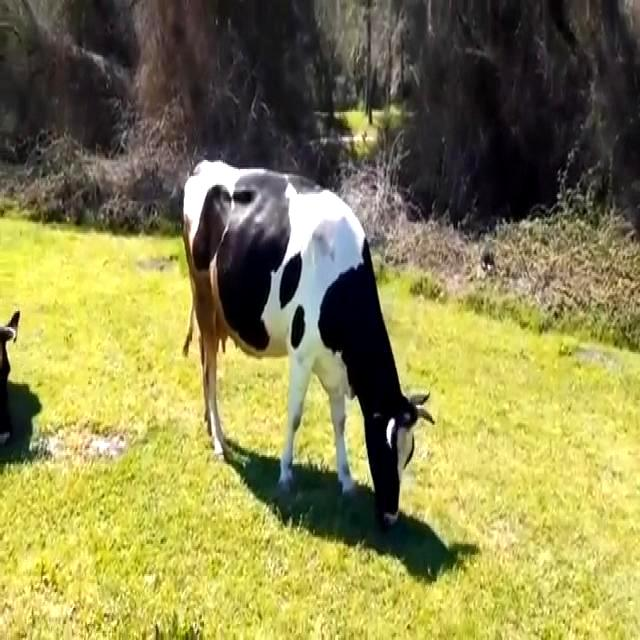COW: (185, 162, 432, 526)
